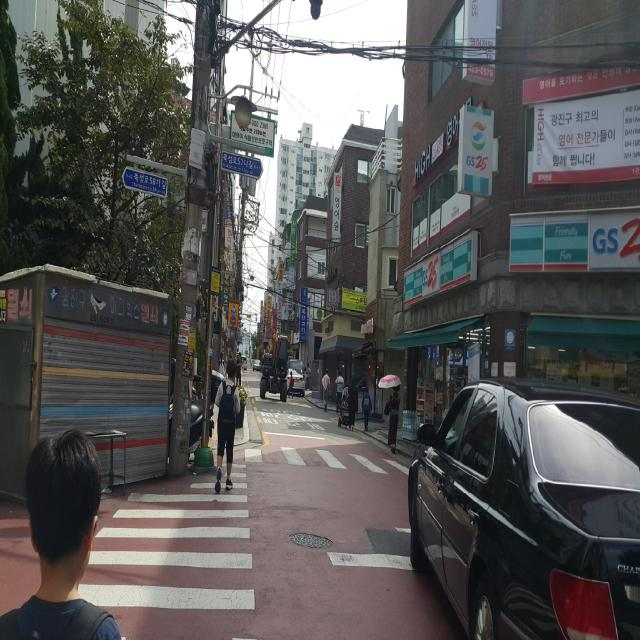횡단보도: (75, 460, 257, 640)
